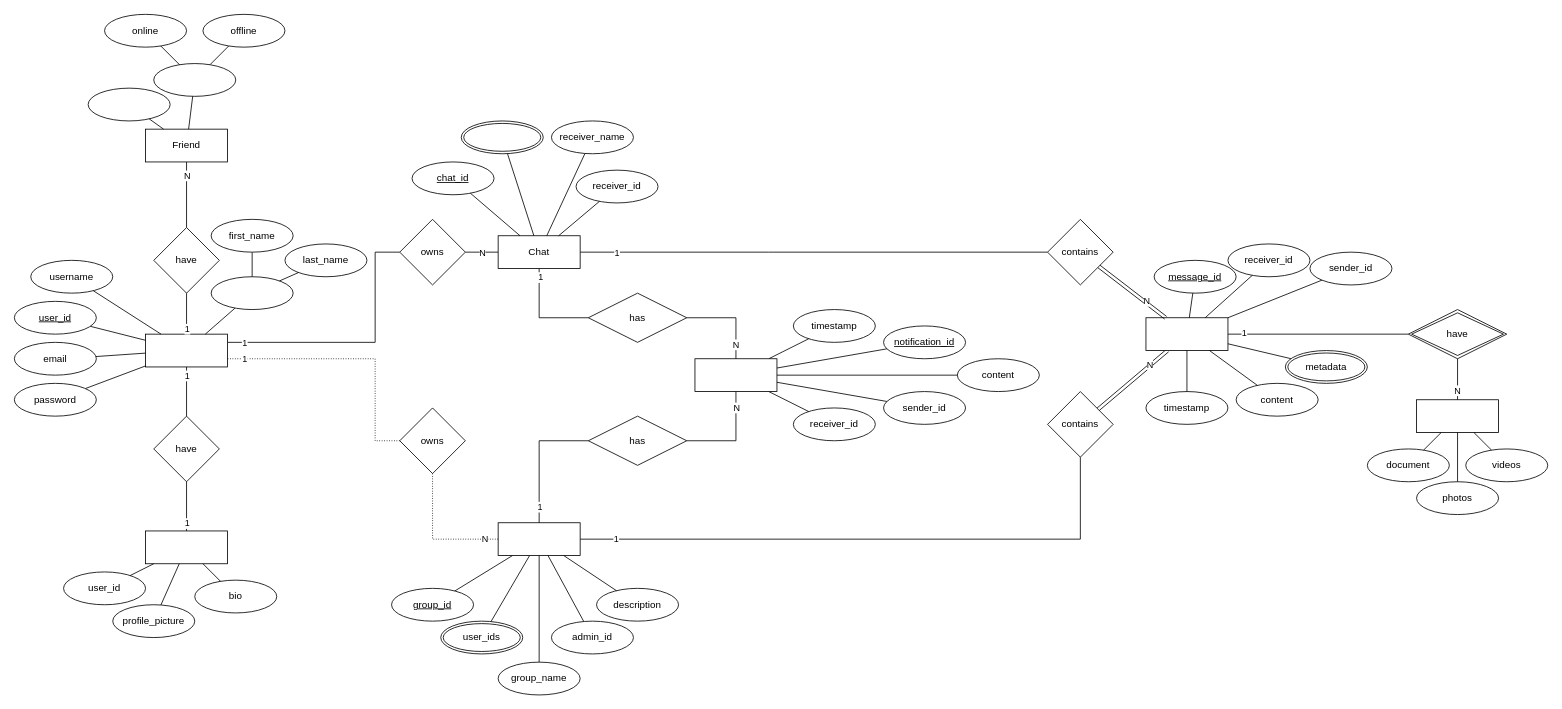
This 1562x709 diagram has some shape labels left out. The shapes that lost their labels are listed below. From the top down, each one's centre as x and y in pixels, then its label:
At (x=194, y=79): "status".
At (x=128, y=104): "friendship_id".
At (x=501, y=137): "conversations_id".
At (x=251, y=293): "name".
At (x=186, y=350): "User".
At (x=1186, y=334): "Message".
At (x=735, y=375): "Notifications".
At (x=1457, y=416): "attachment".
At (x=186, y=547): "Profile".
At (x=538, y=539): "Group".
